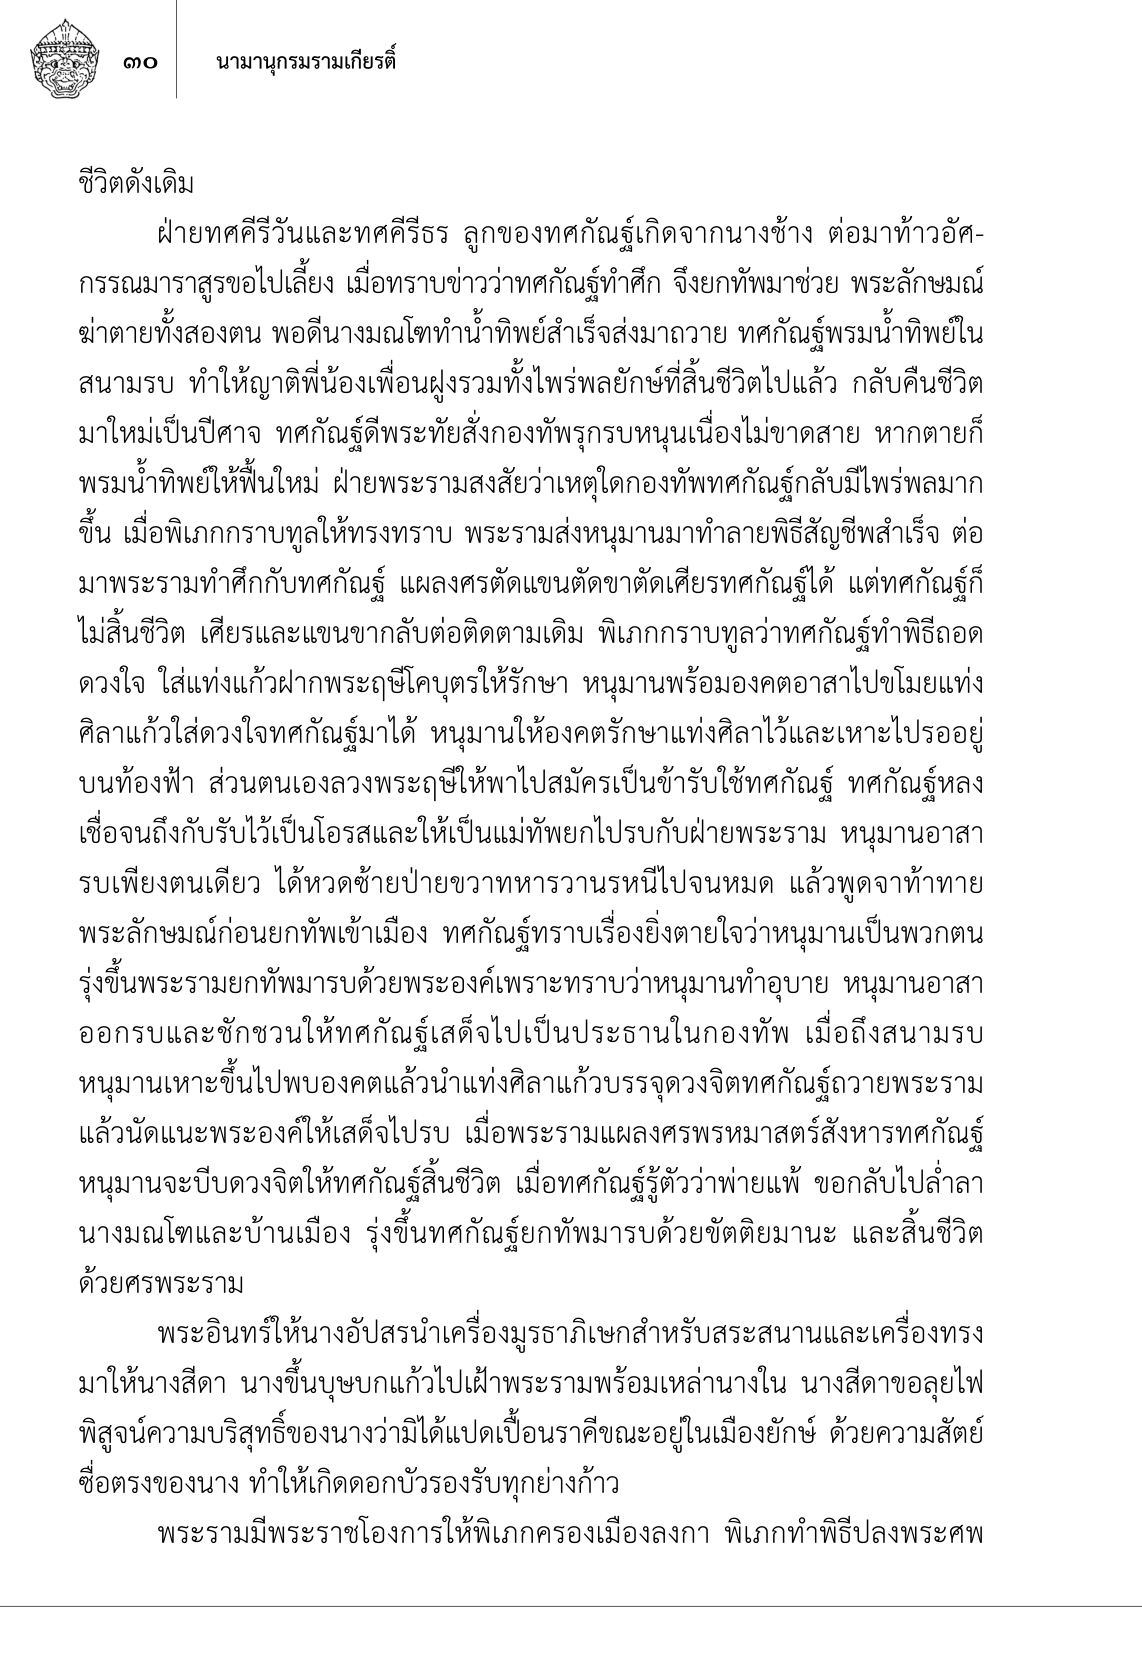thai: (75, 912, 987, 1298), (75, 558, 987, 907), (74, 209, 990, 556), (75, 1305, 990, 1509), (155, 1509, 986, 1550), (214, 36, 403, 83), (74, 156, 195, 204), (119, 48, 161, 77)
